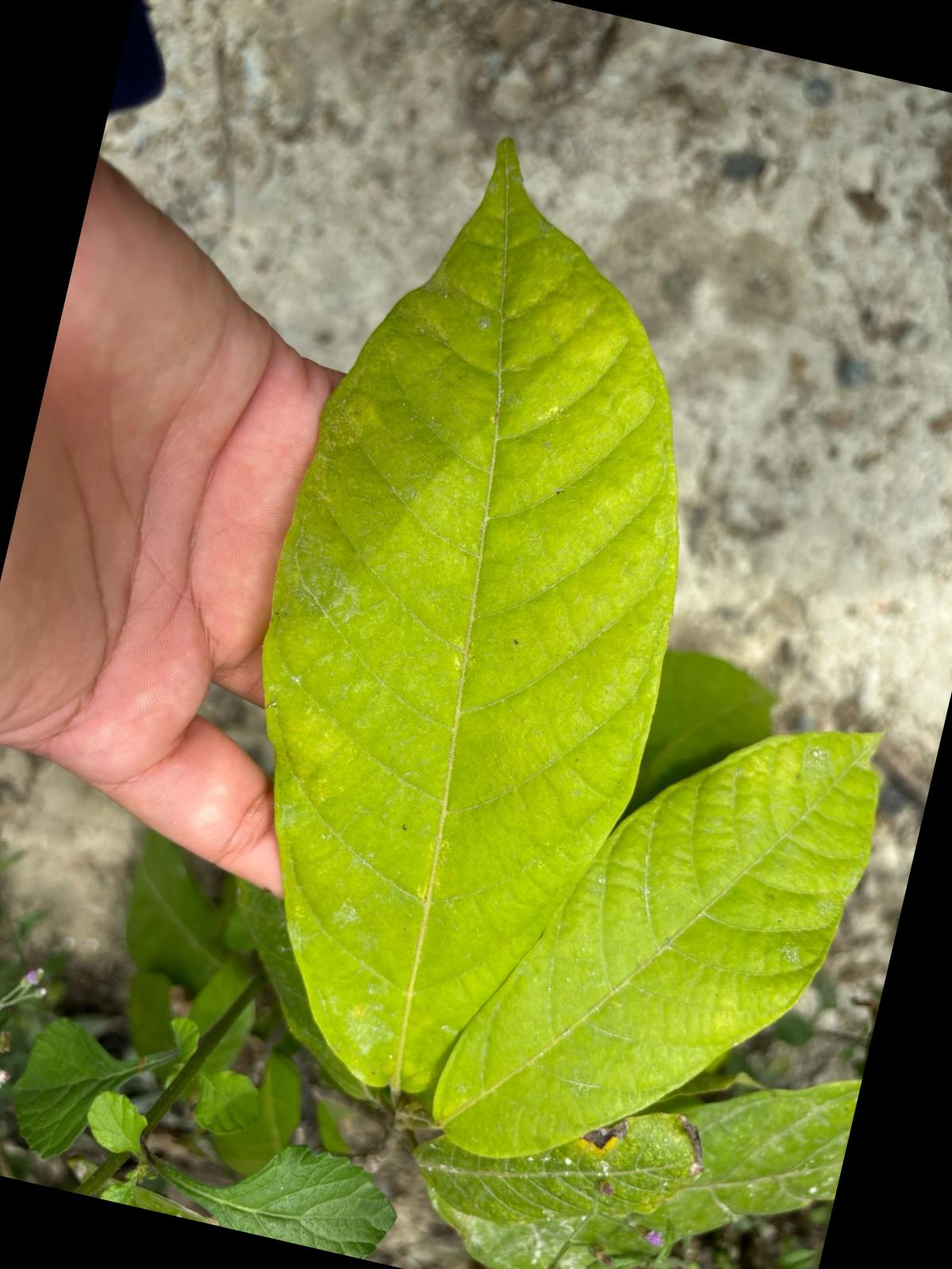Nitrogeno: (263, 141, 676, 1091), (434, 733, 877, 1157)
